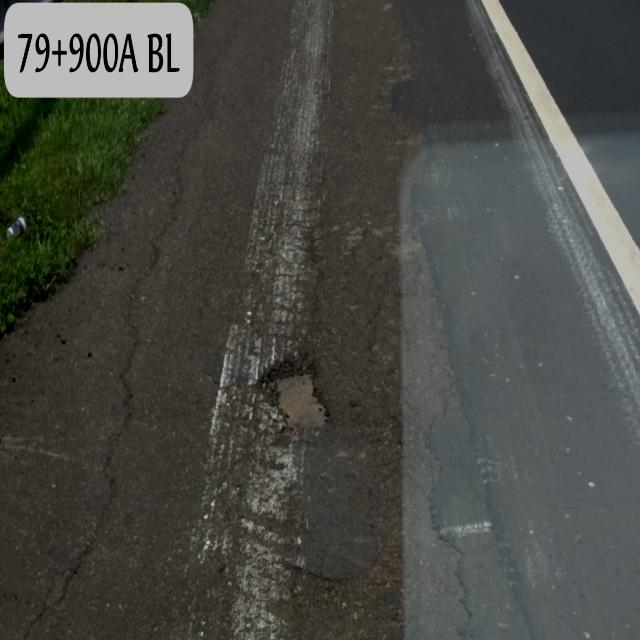Buraco: (249, 357, 338, 437)
